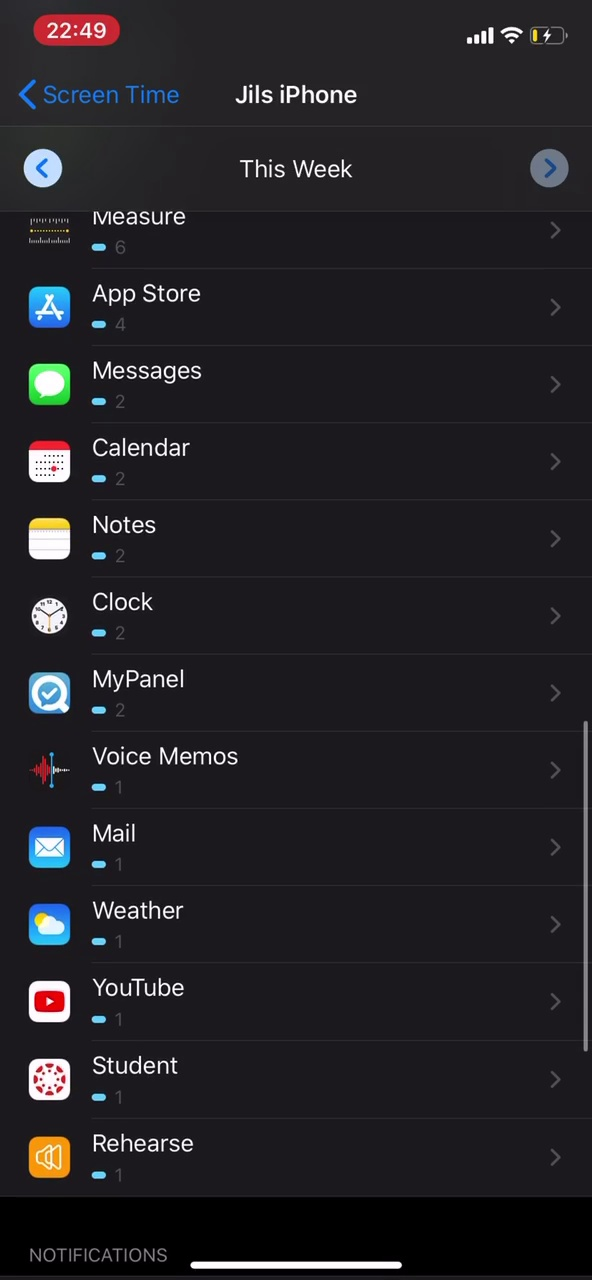pick_app: (20, 735, 289, 805), (18, 1121, 254, 1196), (17, 266, 232, 346), (20, 971, 273, 1038), (22, 574, 253, 646), (22, 892, 262, 960), (22, 500, 247, 572), (20, 657, 257, 722), (20, 349, 237, 419), (23, 425, 234, 494), (12, 1047, 234, 1110), (20, 814, 212, 878), (19, 209, 206, 261)
week: (229, 148, 362, 187)
